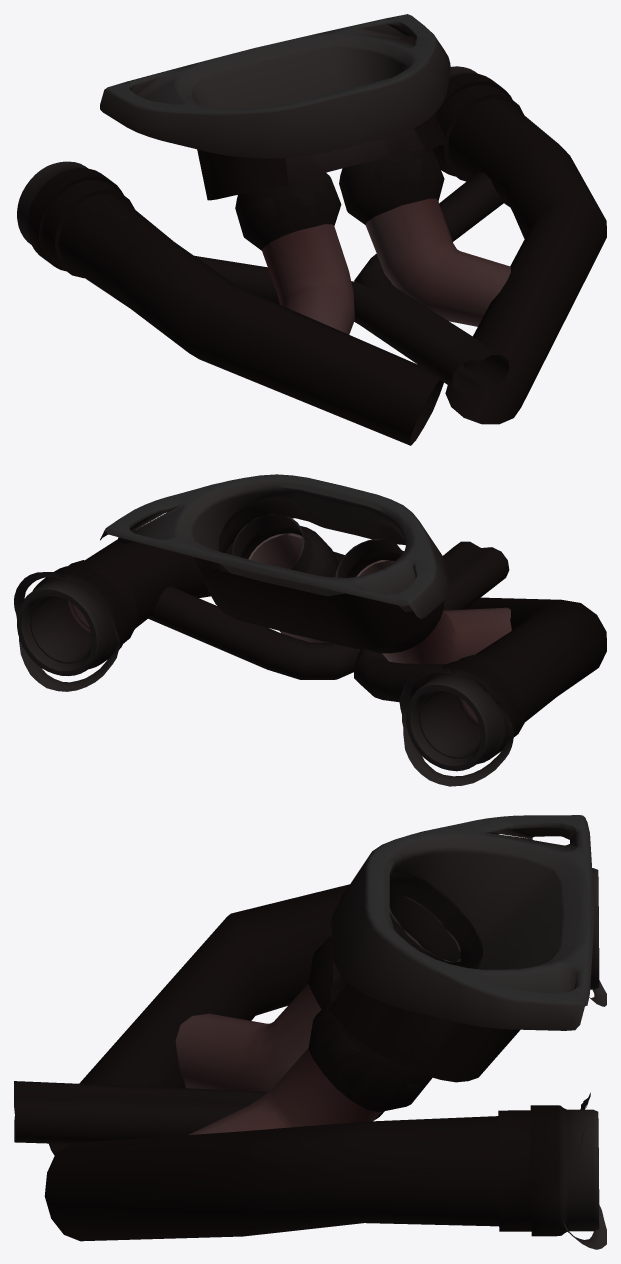
File: exhaust.glb
The picture shows the model from 3 angles, top to bottom: view 1: azimuth 30°, elevation 25°; view 2: azimuth 150°, elevation 25°; view 3: azimuth 270°, elevation 25°; orthographic projection. The views are drawn at different scales.
Visible parts, largest first — view 1: Kit0_Coloured_Geo_lodA_McLaren_Elva_2021Coloured_Material_0.; view 2: Kit0_Coloured_Geo_lodA_McLaren_Elva_2021Coloured_Material_0.; view 3: Kit0_Coloured_Geo_lodA_McLaren_Elva_2021Coloured_Material_0..
Part boxes in pixels (box(x1,y1,x2,y2)): Kit0_Coloured_Geo_lodA_McLaren_Elva_2021Coloured_Material_0.: box(17, 14, 606, 445); Kit0_Coloured_Geo_lodA_McLaren_Elva_2021Coloured_Material_0.: box(14, 474, 606, 786); Kit0_Coloured_Geo_lodA_McLaren_Elva_2021Coloured_Material_0.: box(14, 815, 606, 1249).
Bounding box in the file's own units: 0.00572 × 0.00285 × 0.00463.
1 material, 1 textured.
